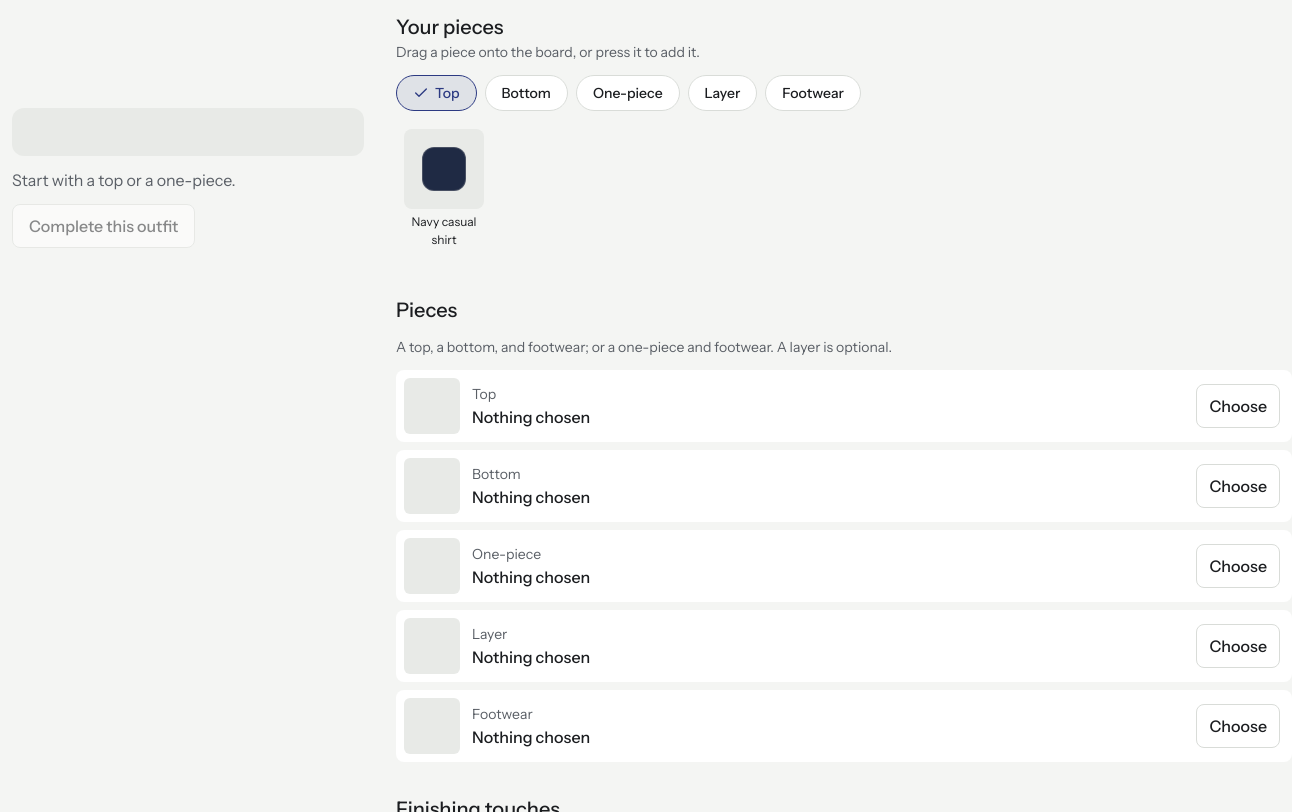
Test: shows the live score with its reasons once the outfit is whole
The image size is (1292, 812).
Click the button with aria-label "Add: Navy casual shirt": (444, 189) [396, 123, 492, 255]
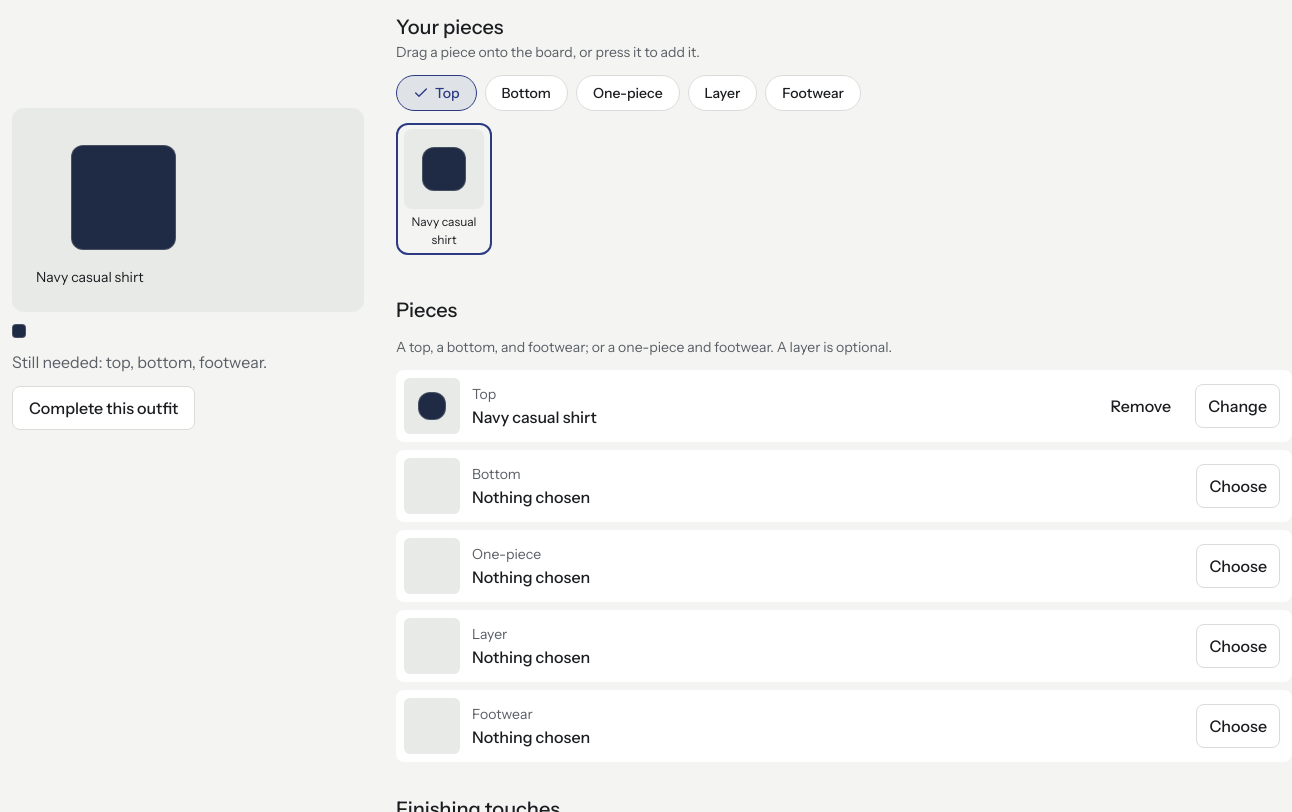
Click the button "Bottom": (526, 93) [484, 75, 568, 111]
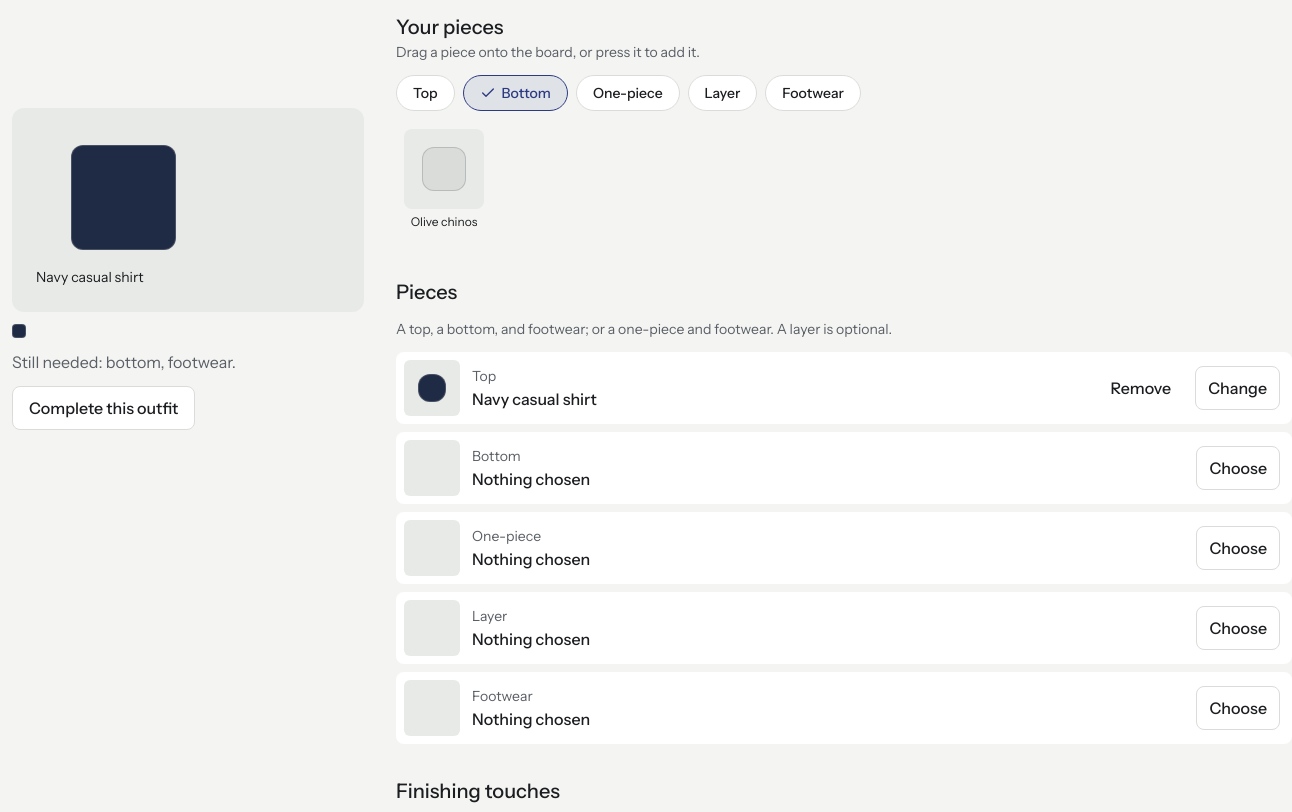
Click the button with aria-label "Add: Olive chinos": (444, 180) [396, 123, 492, 237]
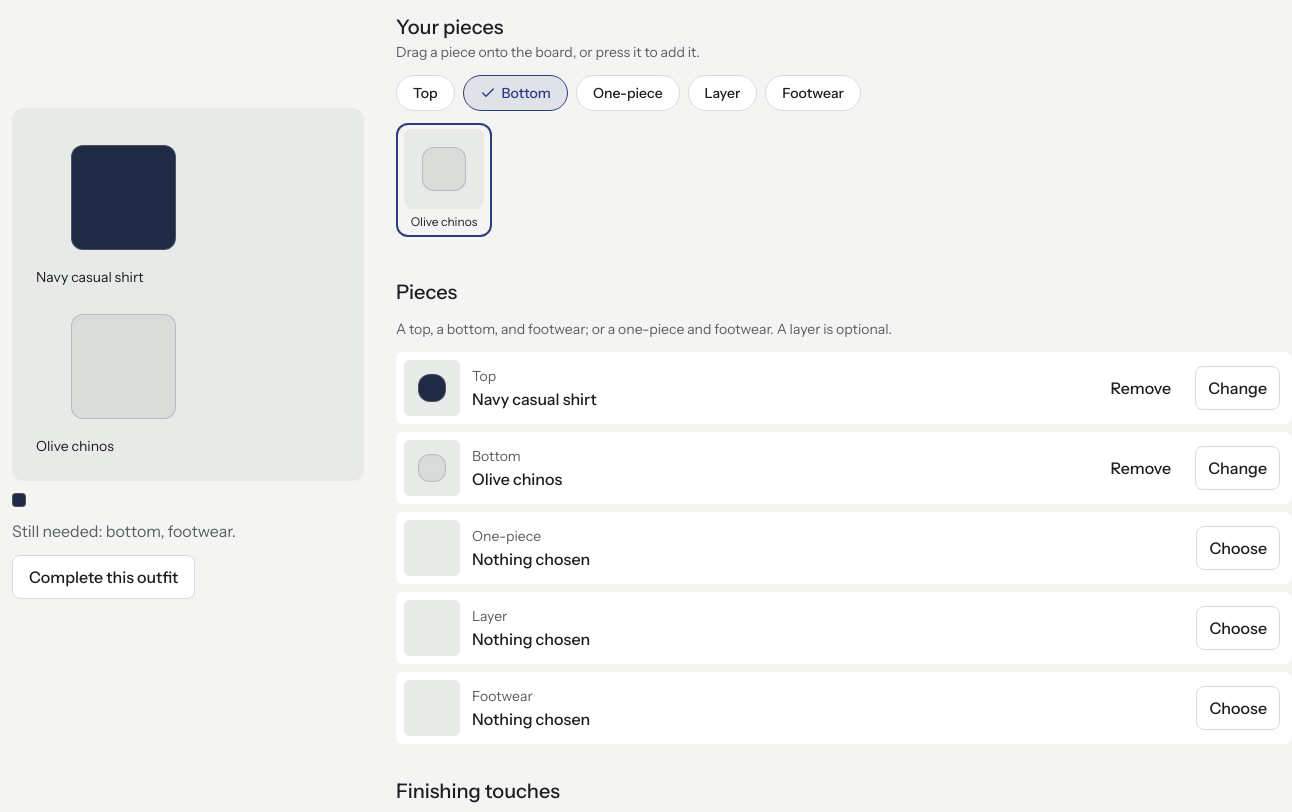
Click the button "Footwear": (813, 93) [765, 75, 861, 111]
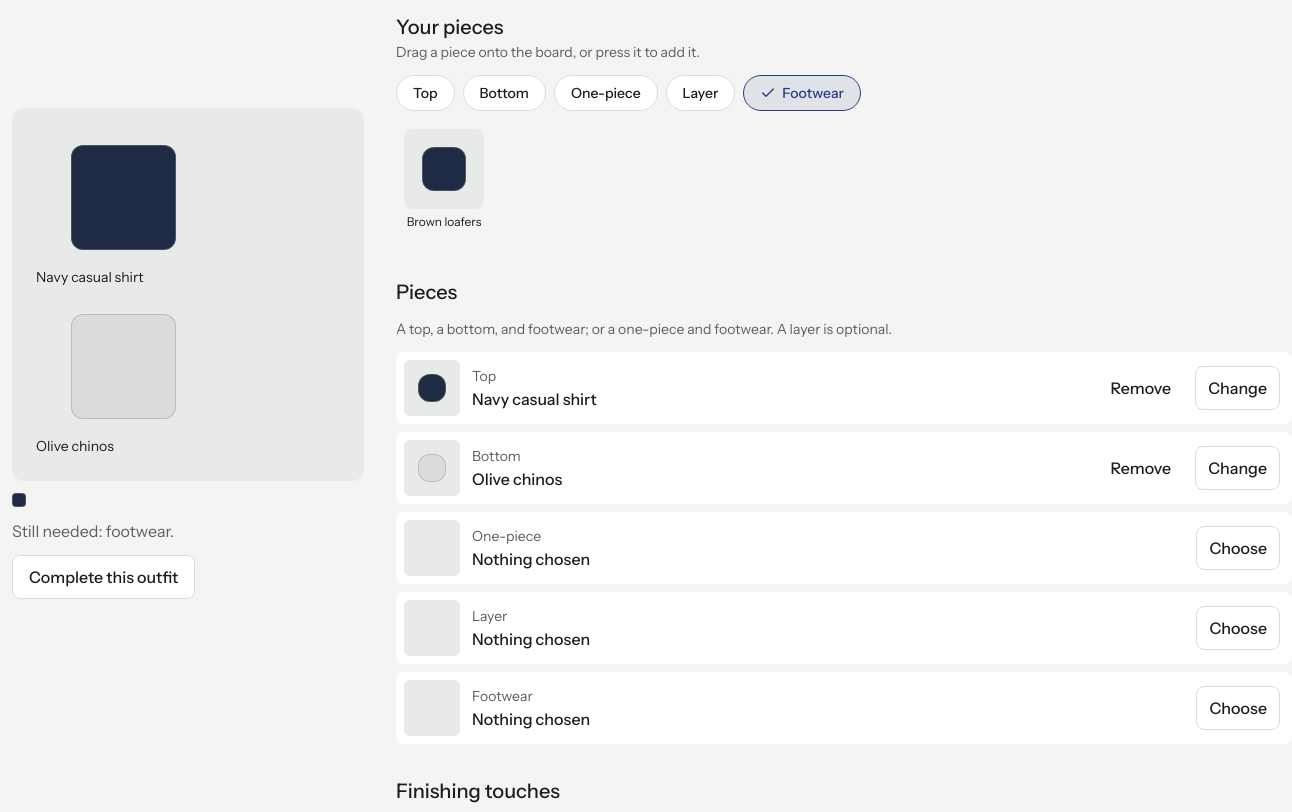
Click the button with aria-label "Add: Brown loafers": (444, 180) [396, 123, 492, 237]
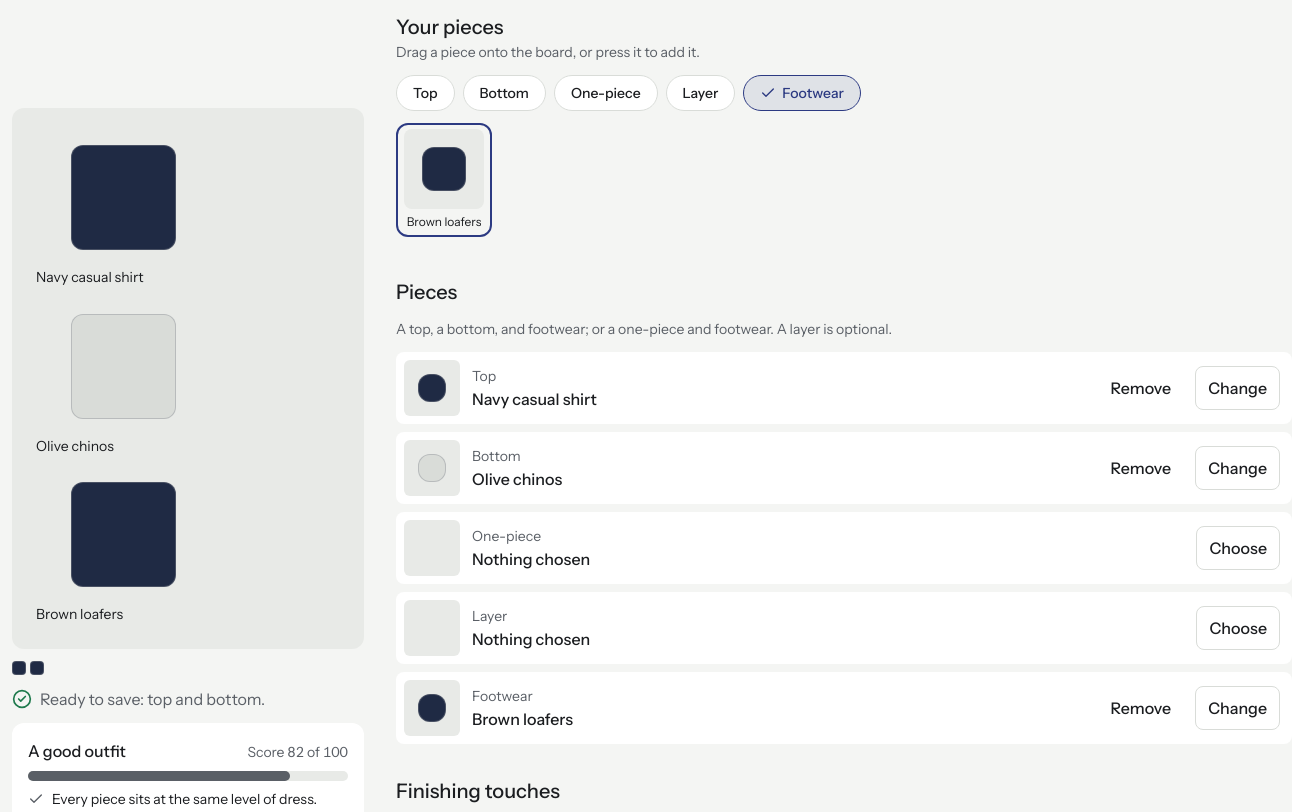
Result: the text "A good outfit" is shown at [28, 739, 126, 763]
Result: the text "Every piece sits at the same level of dress." is shown at [52, 789, 317, 810]
